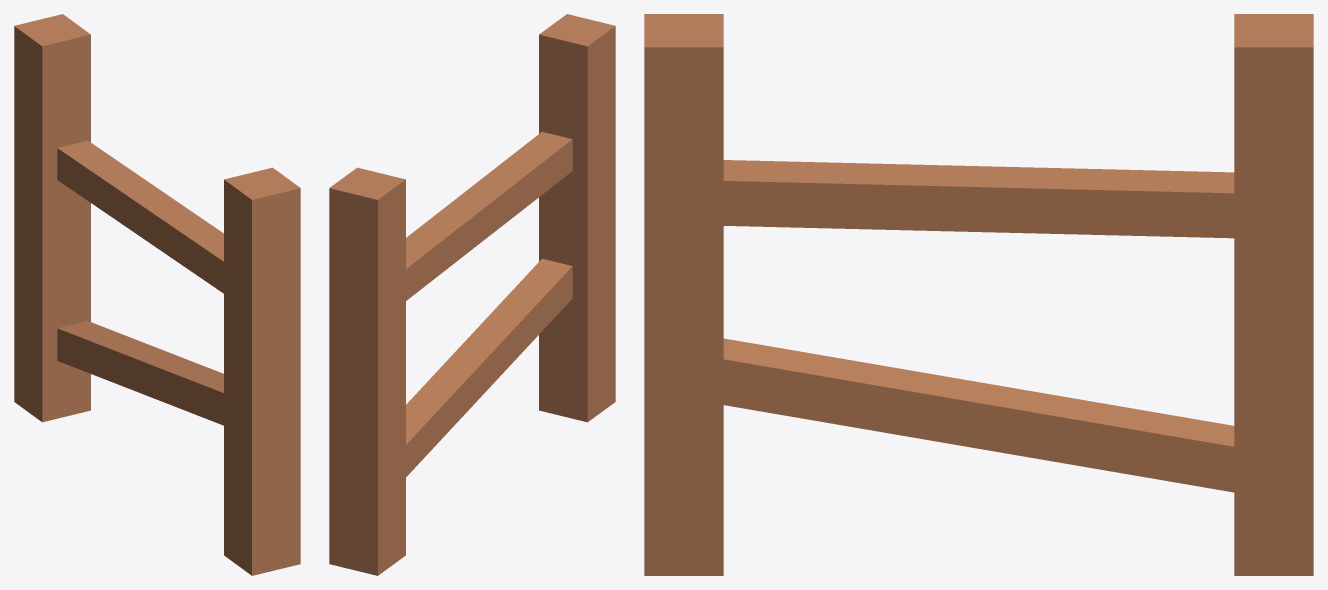
Rendered from fence_1.fbx.
3 views of the same model, side by side, from view 1: azimuth 30°, elevation 25°; view 2: azimuth 150°, elevation 25°; view 3: azimuth 270°, elevation 25° (orthographic). The views are drawn at different scales.
Visible parts, largest first — view 1: Cube, Cube.001, Cube.002, Cube.003; view 2: Cube.001, Cube, Cube.003, Cube.002; view 3: Cube, Cube.001, Cube.003, Cube.002.
Part boxes in pixels (x1,y1,x2,y2): Cube: (224, 167, 300, 575); Cube.001: (14, 14, 90, 422); Cube.002: (57, 140, 223, 293); Cube.003: (57, 321, 223, 425); Cube.001: (329, 167, 405, 575); Cube: (539, 14, 615, 422); Cube.003: (406, 258, 572, 476); Cube.002: (406, 132, 572, 300); Cube: (644, 14, 723, 575); Cube.001: (1234, 14, 1313, 575); Cube.003: (723, 338, 1234, 492); Cube.002: (723, 160, 1234, 238).
Bounding box in the file's own units: 11.82 × 87.18 × 100.
